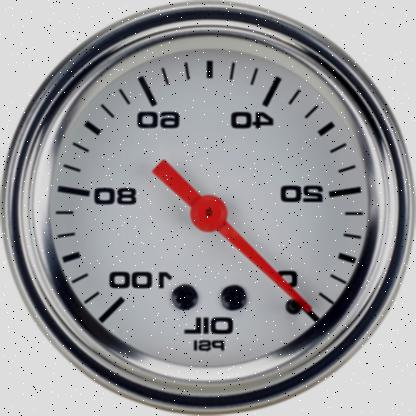needle: (217, 222, 313, 313)
